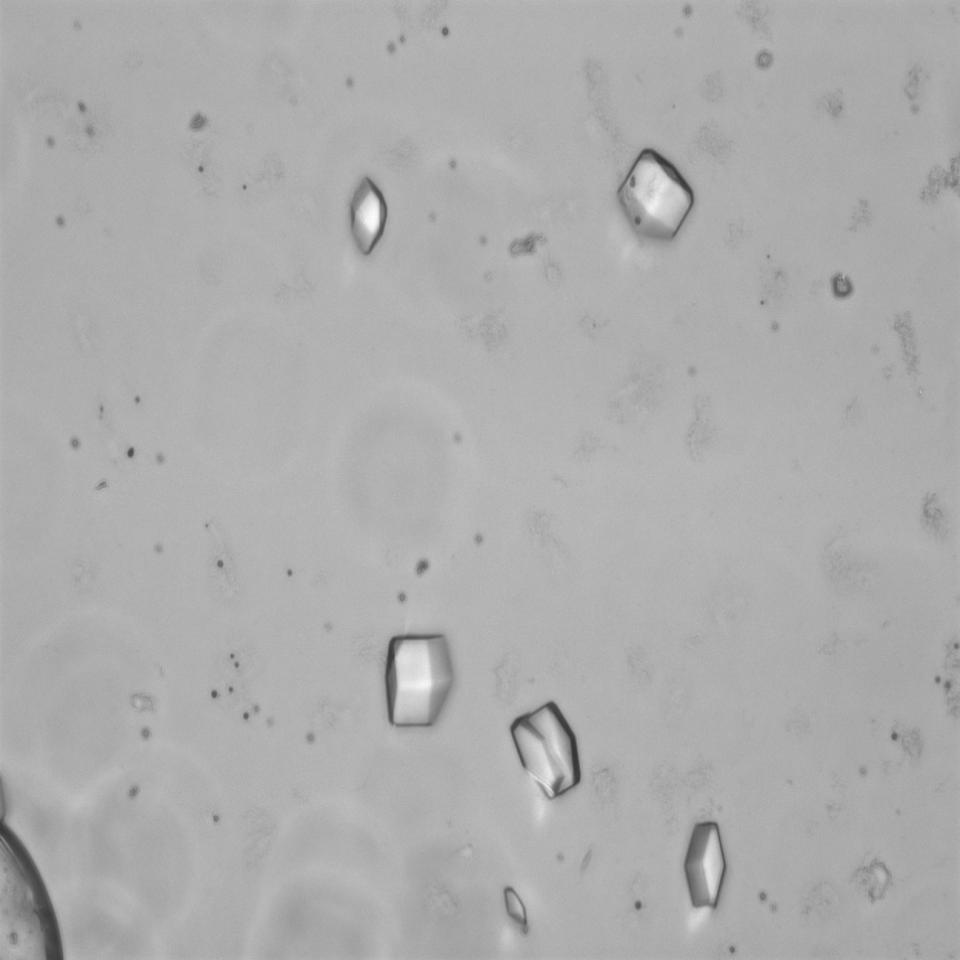crystal: (508, 692, 588, 809), (612, 141, 698, 240), (376, 626, 454, 725), (681, 813, 734, 914), (341, 177, 396, 262), (499, 881, 535, 929)
